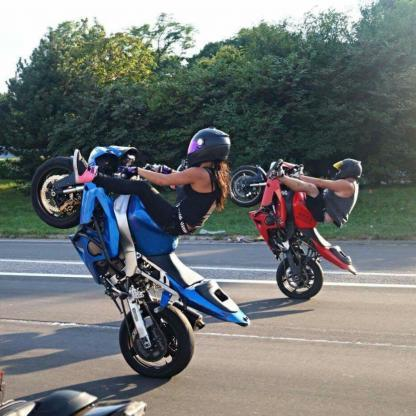helmet: (186, 127, 232, 168), (333, 158, 363, 180)
